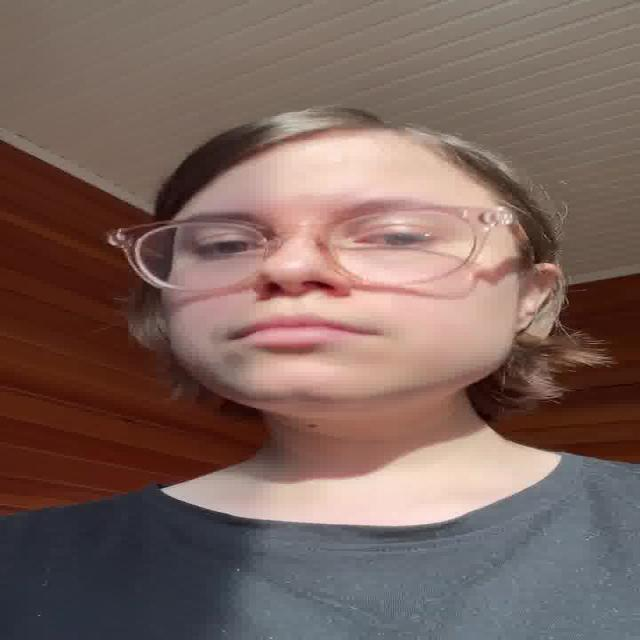earlobe: (512, 262, 563, 333)
